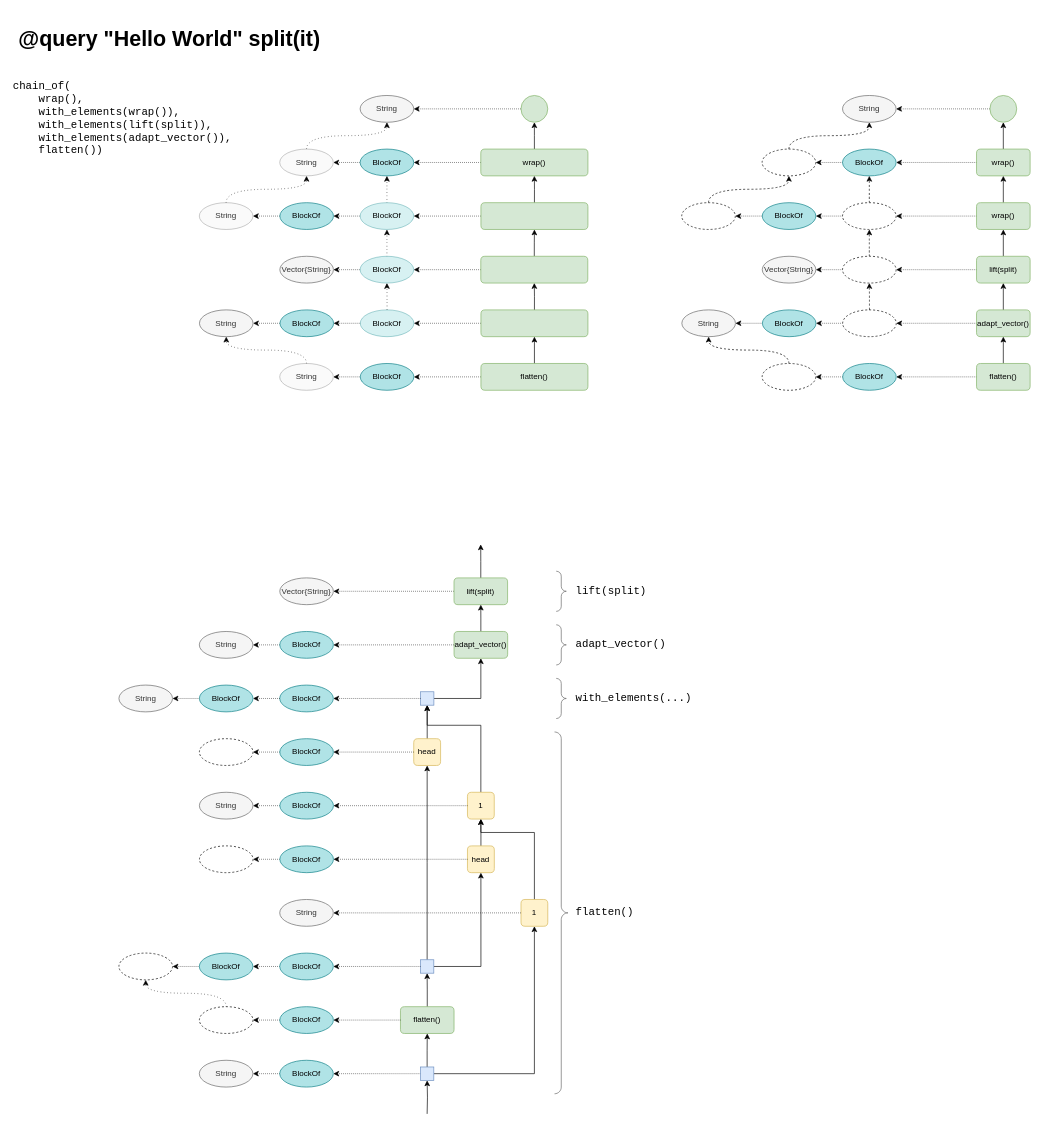
The diagram is 1042 pixels wide and 1131 high, and some of its shapes have lost their labels. The centre of each missing label's shape, as x and y in pixels:
"with_elements(adapt_vector())" goes at (x=534, y=323).
"with_elements(lift(split))" goes at (x=534, y=269).
"with_elements(wrap())" goes at (x=534, y=215).
